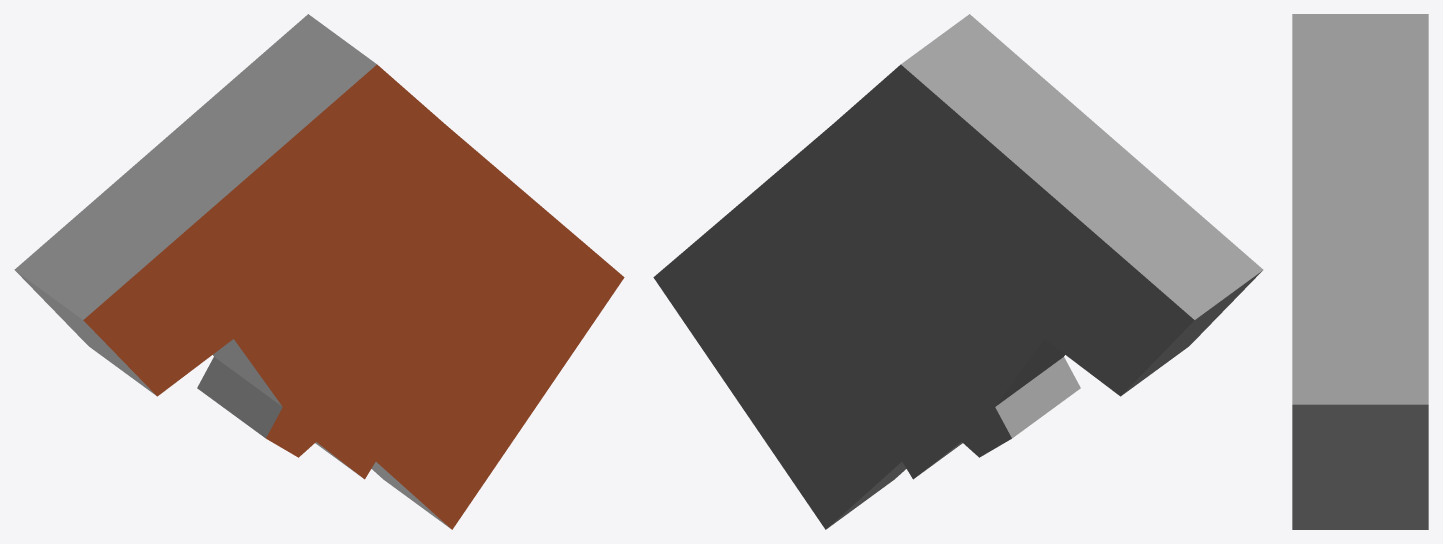
File: construction_6634_assumed_A_Casa_h6m.obj
3 renders of one model, left to right at view 1: azimuth 30°, elevation 25°; view 2: azimuth 150°, elevation 25°; view 3: azimuth 270°, elevation 25°, orthographic.
Visible parts, largest first — view 1: construction_6634_assumed_A_Casa; view 2: construction_6634_assumed_A_Casa; view 3: construction_6634_assumed_A_Casa.
Boxes of the visible parts, x1,y1,x2,y2 form: construction_6634_assumed_A_Casa: (14,14,624,529); construction_6634_assumed_A_Casa: (653,14,1263,529); construction_6634_assumed_A_Casa: (1292,14,1428,529).
Size of the model in its own units: 27.24 by 23.26 by 6.
